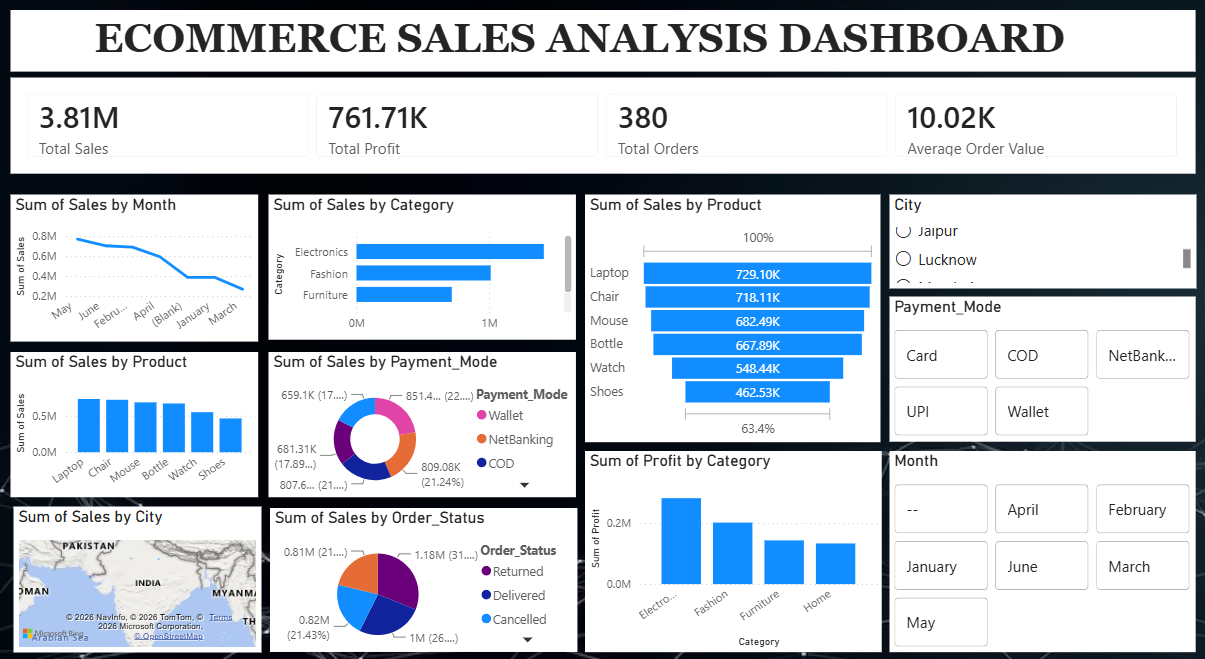

This screenshot's page, from the dashboard's own definition file:
{"tool":"powerbi","page":{"name":"Page 1","canvas":[1280,720],"ordinal":0},"visuals":[{"type":"cardVisual","fields":{"Data":["Dax Measure.Total Sales","Dax Measure.Total Profit","Dax Measure.Total Orders","Dax Measure.Average Order Value"]},"box":[11.1,84.3,1256.6,101.8],"z":0},{"type":"textbox","box":[11.1,12.7,1256.6,65.2],"z":1000},{"type":"lineChart","fields":{"Category":["ecommerce orders.Month"],"Y":["Sum(ecommerce orders.Sales)"]},"box":[11.1,208.4,262.5,155.9],"z":2000},{"type":"barChart","fields":{"Category":["ecommerce orders.Category"],"Y":["Sum(ecommerce orders.Sales)"]},"box":[284.7,208.4,326.1,154.3],"z":3000},{"type":"columnChart","fields":{"Category":["ecommerce orders.Product"],"Y":["Sum(ecommerce orders.Sales)"]},"box":[11.1,375.4,262.5,154.3],"z":4000},{"type":"filledMap","fields":{"Category":["ecommerce orders.City"]},"box":[14.3,539.2,262.5,154.3],"z":5000},{"type":"donutChart","fields":{"Category":["ecommerce orders.Payment_Mode"],"Y":["Sum(ecommerce orders.Sales)"]},"box":[284.7,375.4,326.1,154.3],"z":6000},{"type":"pieChart","fields":{"Category":["ecommerce orders.Order_Status"],"Y":["Sum(ecommerce orders.Sales)"]},"box":[286.3,540.8,326.1,152.7],"z":7000},{"type":"funnel","fields":{"Category":["ecommerce orders.Product"],"Y":["Sum(ecommerce orders.Sales)"]},"box":[620.3,208.4,313.4,262.5],"z":8000},{"type":"columnChart","fields":{"Category":["ecommerce orders.Category"],"Y":["Sum(ecommerce orders.Profit)"]},"box":[620.3,480.4,314.9,213.1],"z":9000},{"type":"advancedSlicerVisual","fields":{"Values":["ecommerce orders.Month"]},"box":[943.2,480.4,324.5,213.1],"z":9001},{"type":"listSlicer","fields":{"Values":["ecommerce orders.City"]},"box":[943.2,208.4,324.5,98.6],"z":9002},{"type":"advancedSlicerVisual","fields":{"Values":["ecommerce orders.Payment_Mode"]},"box":[943.2,316.5,324.5,154.3],"z":9003}]}

Visuals, with their boxes in screenshot pixels (x1, y1, x2, y2), scaled from the page's 1280x720 canvas onto the 1205x659 screenshot:
cardVisual - Dax Measure.Total Sales x Dax Measure.Total Profit: BBox(10, 77, 1193, 170)
textbox: BBox(10, 12, 1193, 71)
lineChart - ecommerce orders.Month x Sum(ecommerce orders.Sales): BBox(10, 191, 258, 333)
barChart - ecommerce orders.Category x Sum(ecommerce orders.Sales): BBox(268, 191, 575, 332)
columnChart - ecommerce orders.Product x Sum(ecommerce orders.Sales): BBox(10, 344, 258, 485)
filledMap - ecommerce orders.City: BBox(13, 494, 261, 635)
donutChart - ecommerce orders.Payment_Mode x Sum(ecommerce orders.Sales): BBox(268, 344, 575, 485)
pieChart - ecommerce orders.Order_Status x Sum(ecommerce orders.Sales): BBox(270, 495, 577, 635)
funnel - ecommerce orders.Product x Sum(ecommerce orders.Sales): BBox(584, 191, 879, 431)
columnChart - ecommerce orders.Category x Sum(ecommerce orders.Profit): BBox(584, 440, 880, 635)
advancedSlicerVisual - ecommerce orders.Month: BBox(888, 440, 1193, 635)
listSlicer - ecommerce orders.City: BBox(888, 191, 1193, 281)
advancedSlicerVisual - ecommerce orders.Payment_Mode: BBox(888, 290, 1193, 431)
